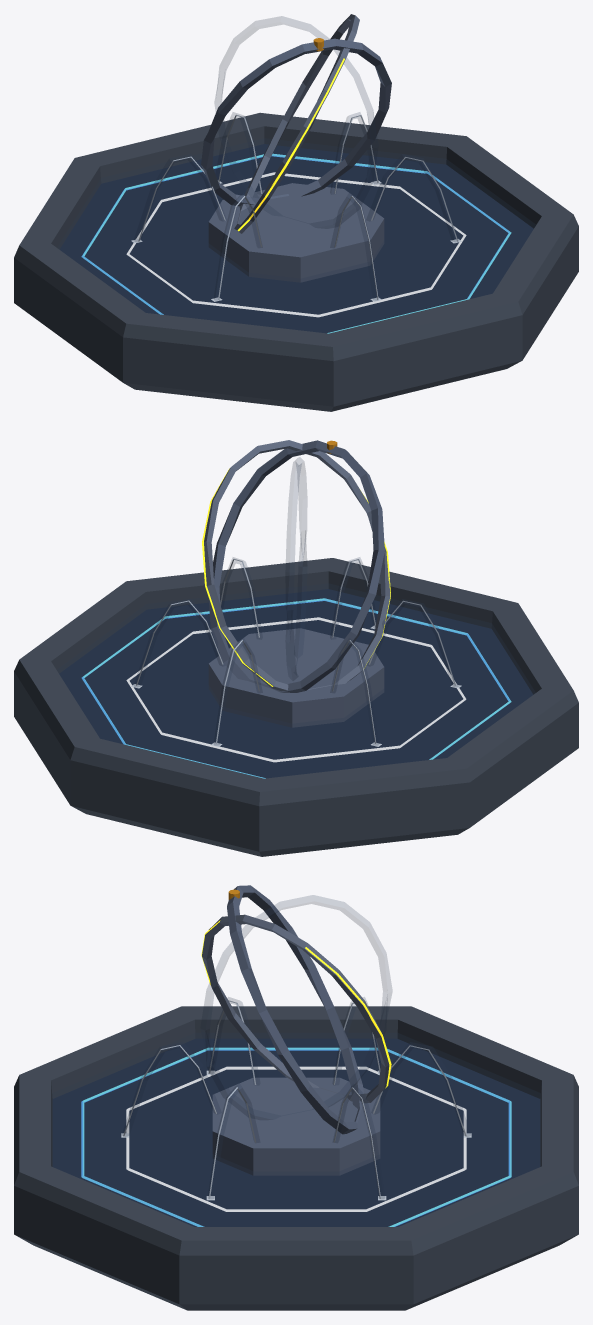
The model's file is mall_fountain.glb.
3 views of the same model, one above another, from view 1: azimuth 30°, elevation 25°; view 2: azimuth 150°, elevation 25°; view 3: azimuth 270°, elevation 25° (orthographic). The views are drawn at different scales.
Parts seen in each view (by area): view 1: basin, orbital_ribbon.001, water, orbital_ribbon, orbital_ribbon.002, submerged_light.001, submerged_light, jet_glint, edge_lamp; view 2: basin, orbital_ribbon.001, water, orbital_ribbon, orbital_ribbon.002, submerged_light.001, submerged_light, jet_glint, edge_lamp; view 3: basin, orbital_ribbon.001, water, orbital_ribbon, orbital_ribbon.002, submerged_light, submerged_light.001, jet_glint, edge_lamp.
Part boxes in pixels (x1,y1,x2,y2): basin: (14, 112, 578, 411); orbital_ribbon.001: (57, 16, 535, 332); water: (59, 144, 533, 333); orbital_ribbon: (201, 38, 391, 282); orbital_ribbon.002: (234, 14, 359, 233); submerged_light.001: (126, 172, 466, 317); submerged_light: (81, 153, 511, 333); jet_glint: (131, 114, 461, 301); edge_lamp: (237, 58, 344, 231); basin: (14, 558, 578, 856); orbital_ribbon.001: (57, 457, 535, 777); water: (59, 589, 533, 778); orbital_ribbon: (208, 440, 384, 727); orbital_ribbon.002: (204, 440, 390, 691); submerged_light.001: (126, 617, 466, 762); submerged_light: (81, 598, 511, 778); jet_glint: (131, 559, 461, 746); edge_lamp: (202, 468, 390, 686); basin: (14, 1006, 578, 1310); orbital_ribbon.001: (53, 895, 539, 1226); water: (52, 1038, 540, 1226); orbital_ribbon: (212, 885, 380, 1175); orbital_ribbon.002: (202, 914, 389, 1103); submerged_light: (81, 1047, 511, 1226); submerged_light.001: (126, 1066, 466, 1211); jet_glint: (121, 1000, 471, 1200); edge_lamp: (201, 920, 391, 1088).
Bounding box in the file's own units: 6.4 × 3.8 × 6.4.
